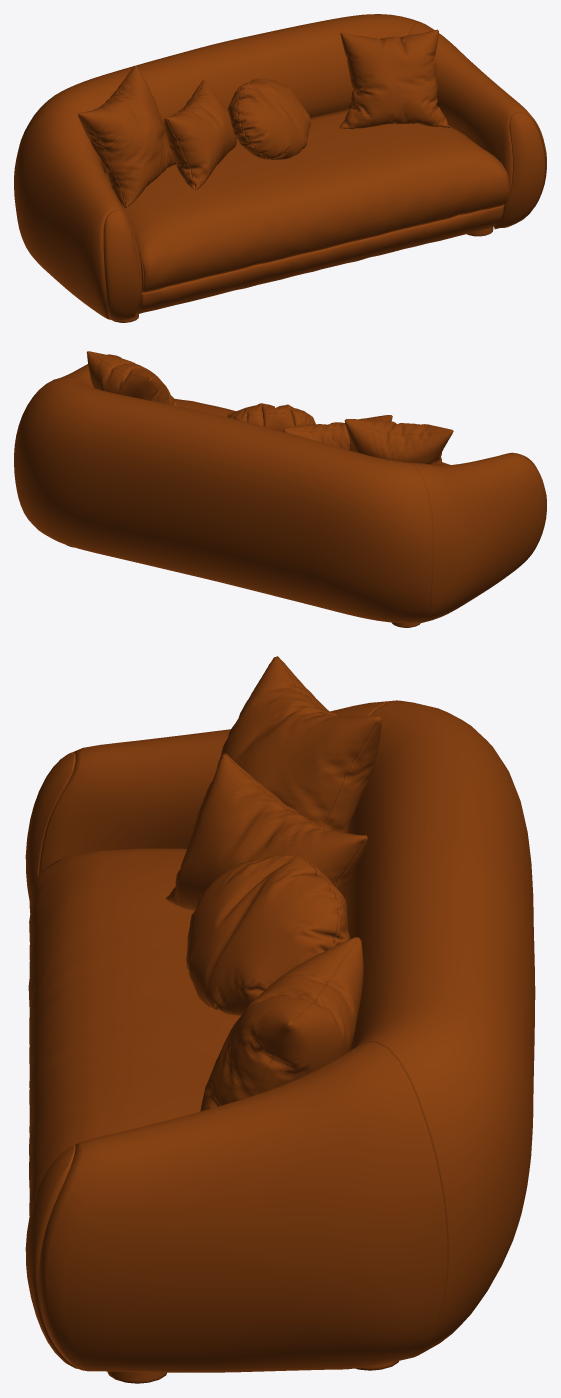
Rendered from sofa.obj.
3 renders of one model, top to bottom at view 1: azimuth 30°, elevation 25°; view 2: azimuth 150°, elevation 25°; view 3: azimuth 270°, elevation 25°, orthographic. The views are drawn at different scales.
Visible parts, largest first — view 1: Sofa_Seat, Pillow_02, Pillow_01; view 2: Sofa_Seat, Pillow_02, Pillow_01; view 3: Sofa_Seat, Pillow_02, Pillow_01.
Boxes of the visible parts, x1=… form: Sofa_Seat: x1=14, y1=14, x2=546, y2=320; Pillow_02: x1=227, y1=78, x2=310, y2=159; Pillow_01: x1=164, y1=80, x2=236, y2=189; Sofa_Seat: x1=14, y1=351, x2=546, y2=623; Pillow_02: x1=227, y1=403, x2=315, y2=431; Pillow_01: x1=283, y1=415, x2=392, y2=450; Sofa_Seat: x1=25, y1=656, x2=535, y2=1372; Pillow_02: x1=186, y1=854, x2=349, y2=1015; Pillow_01: x1=165, y1=753, x2=368, y2=911.
Size of the model in its own units: 2032 by 819 by 991.
